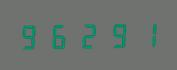nine: (102, 19, 129, 49), (18, 21, 45, 50)
one: (130, 19, 157, 48)
six: (46, 20, 73, 50)
two: (74, 20, 101, 49)
